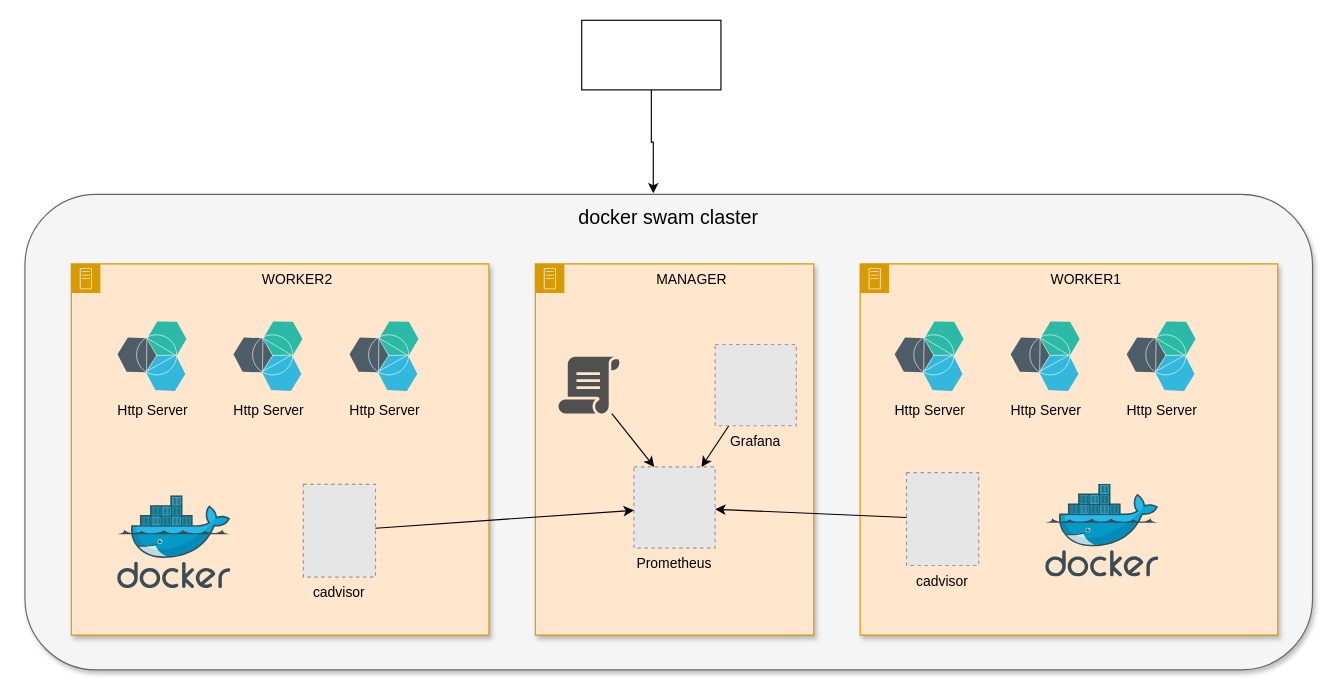
The diagram is 1340 pixels wide and 698 high, and some of its shapes have lost their labels. Grey dashed boxes stand in for pictures. The shapes that lost their labels are listed below. From the top down, each one's centre as x and y in pixels, then its label:
At point (651, 54): "Jmetr".
At point (588, 384): "Autoscaler".
